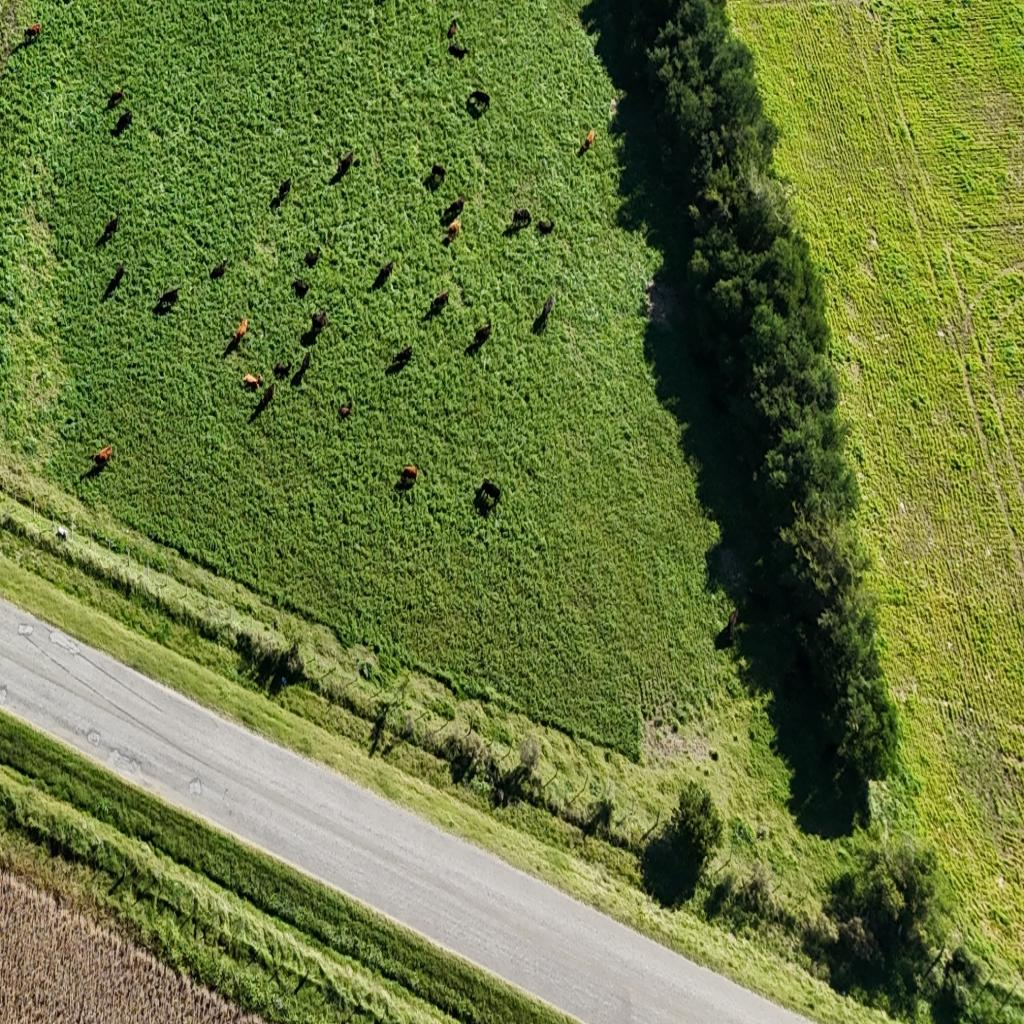cow: (299, 249, 322, 292), (474, 480, 500, 513), (252, 382, 275, 416), (534, 296, 554, 333), (721, 606, 739, 645), (396, 464, 420, 493), (333, 150, 355, 180), (106, 262, 127, 293), (466, 90, 490, 116), (443, 196, 465, 224), (155, 287, 179, 312), (293, 351, 311, 384), (223, 328, 243, 356), (112, 111, 132, 137), (430, 290, 450, 316), (426, 164, 446, 190), (374, 262, 394, 288), (92, 443, 112, 468), (472, 320, 492, 345), (273, 179, 291, 206), (310, 310, 328, 336), (393, 345, 413, 367), (233, 317, 249, 342), (446, 218, 462, 243), (107, 87, 125, 109), (466, 334, 484, 356), (821, 741, 839, 763), (104, 214, 119, 240), (512, 208, 531, 228), (210, 260, 228, 280), (292, 279, 310, 299), (273, 360, 291, 380), (24, 24, 42, 44), (449, 43, 469, 61), (242, 372, 262, 390), (580, 129, 594, 152), (305, 248, 321, 268), (269, 189, 283, 211), (538, 218, 556, 235), (447, 18, 460, 40), (338, 401, 352, 420), (456, 38, 467, 52)
